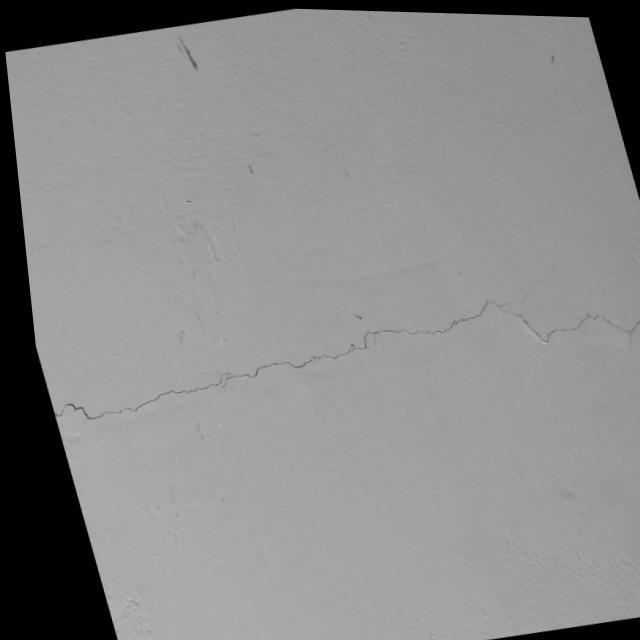Crack: (55, 295, 639, 419)
